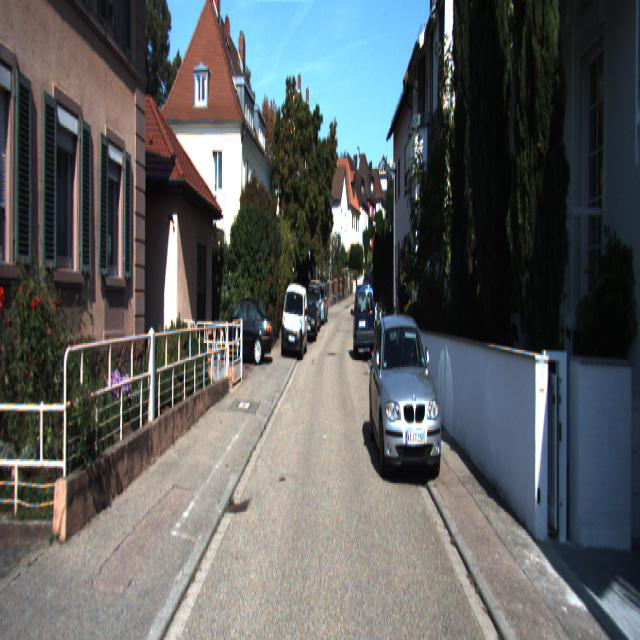Car: (368, 310, 442, 489), (210, 299, 274, 370), (279, 282, 308, 361), (352, 282, 377, 358), (300, 294, 318, 342)
